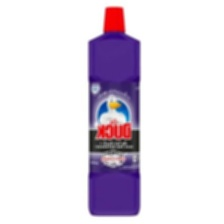cleaning_solution: (85, 4, 143, 219)
